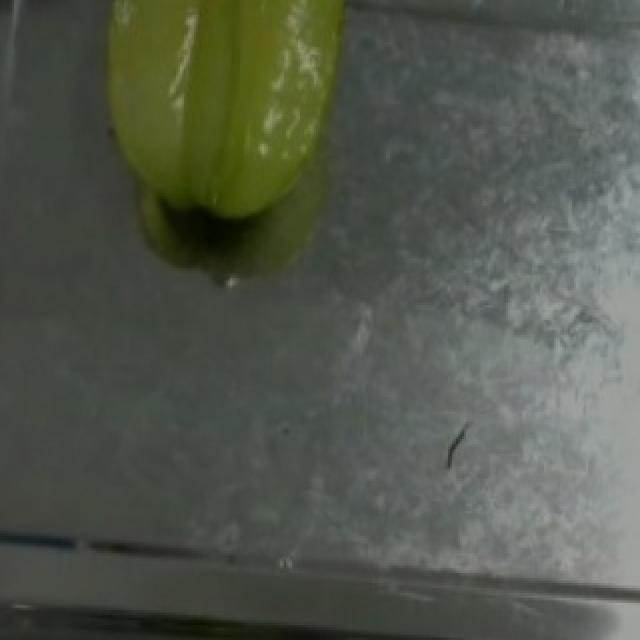fruit: (74, 0, 382, 243)
